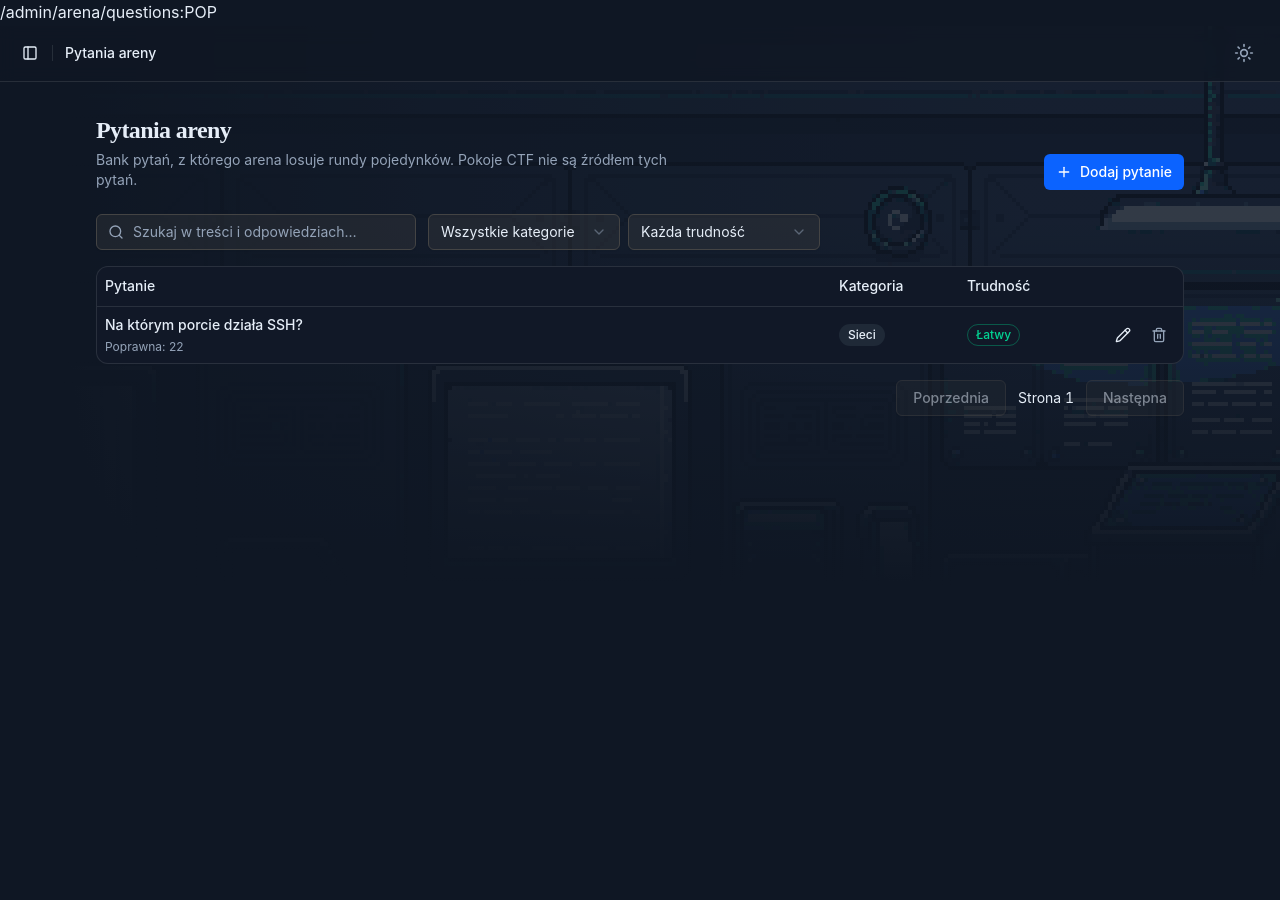
arena questions page › saves edits with the loaded version and keeps the form on a conflict
Click the button named "Edytuj pytanie: Na którym porcie" at (1123, 335), box [1107, 319, 1139, 351]
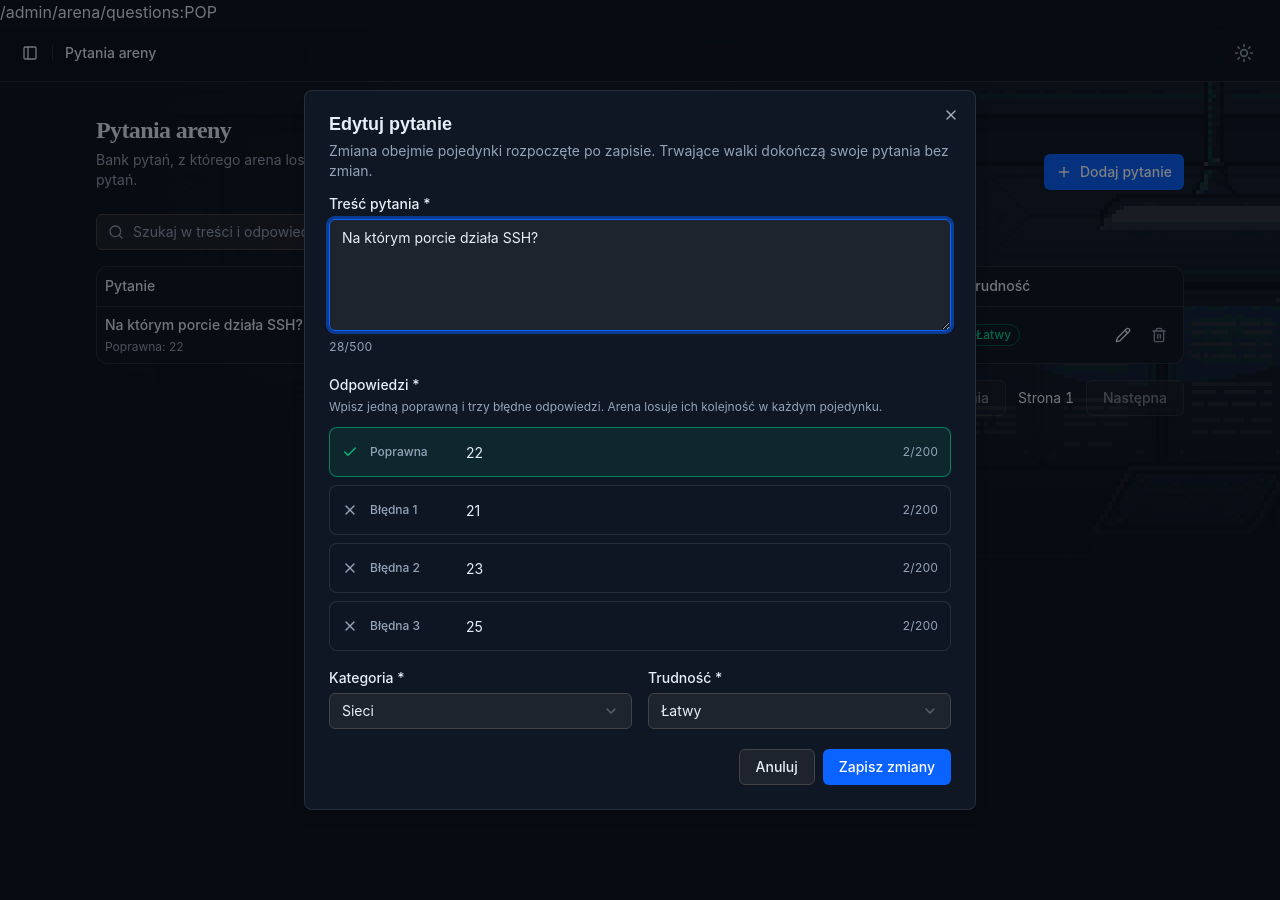
Check: the field named "Poprawna" holds "22", box [462, 436, 890, 468]
Check: the field named "Błędna 1" holds "21", box [462, 494, 890, 526]
Check: the field named "Błędna 3" holds "25", box [462, 610, 890, 642]
Type " (domyślnie)" into the text box labelled "Treść pytania *" at (640, 275), box [329, 219, 951, 331]
Click the button "Zapisz zmiany" at (887, 767), box [823, 749, 951, 785]
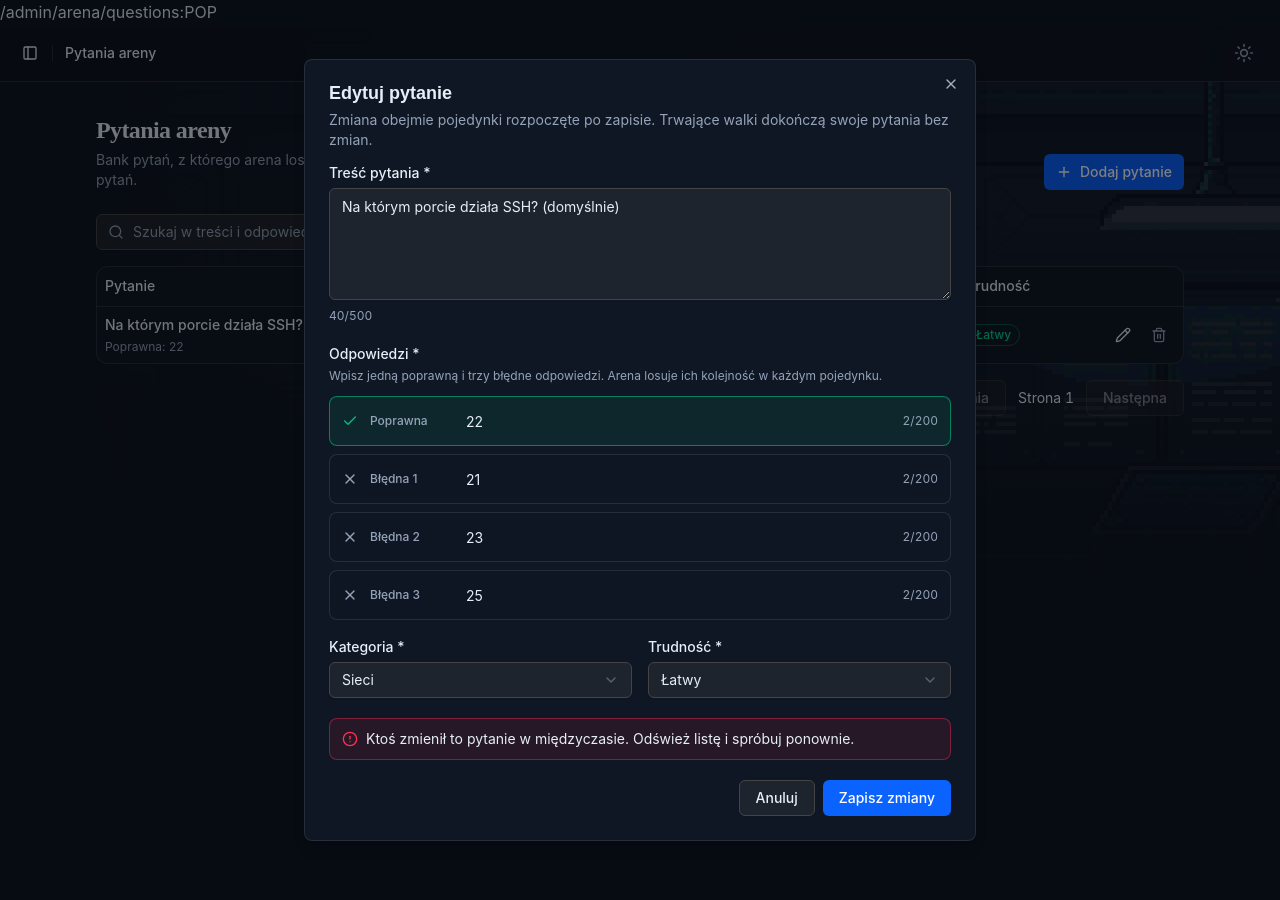
Check: the text box labelled "Treść pytania *" holds "Na którym porcie działa SSH? (domyślnie)", box [329, 188, 951, 300]
Check: the text "Ktoś zmienił to pytanie w międzyczasie" is shown, box [366, 730, 854, 747]
Click the button "Anuluj" at (777, 798), box [738, 780, 815, 816]
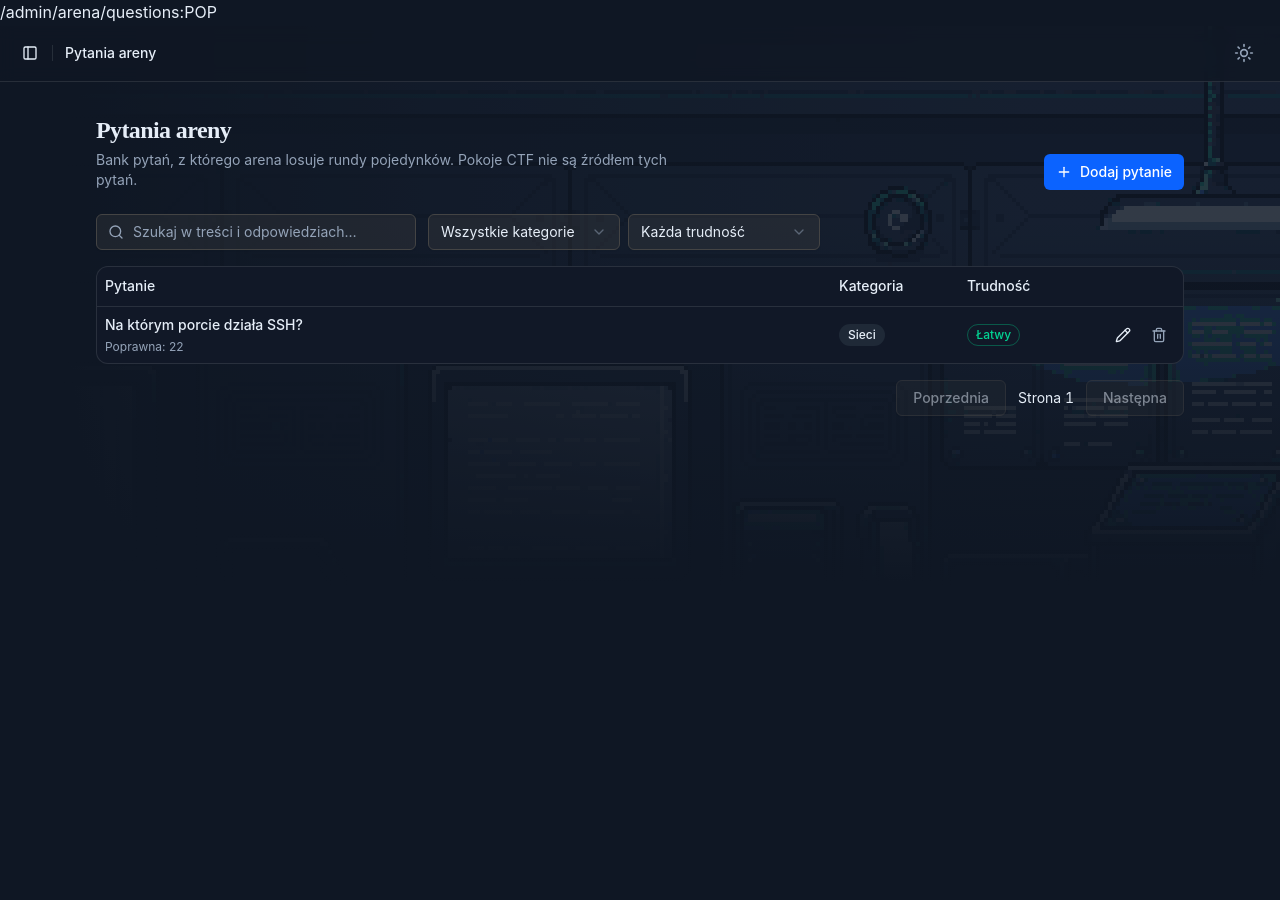
Click the button named "Edytuj pytanie: Na którym porcie" at (1123, 335), box [1107, 319, 1139, 351]
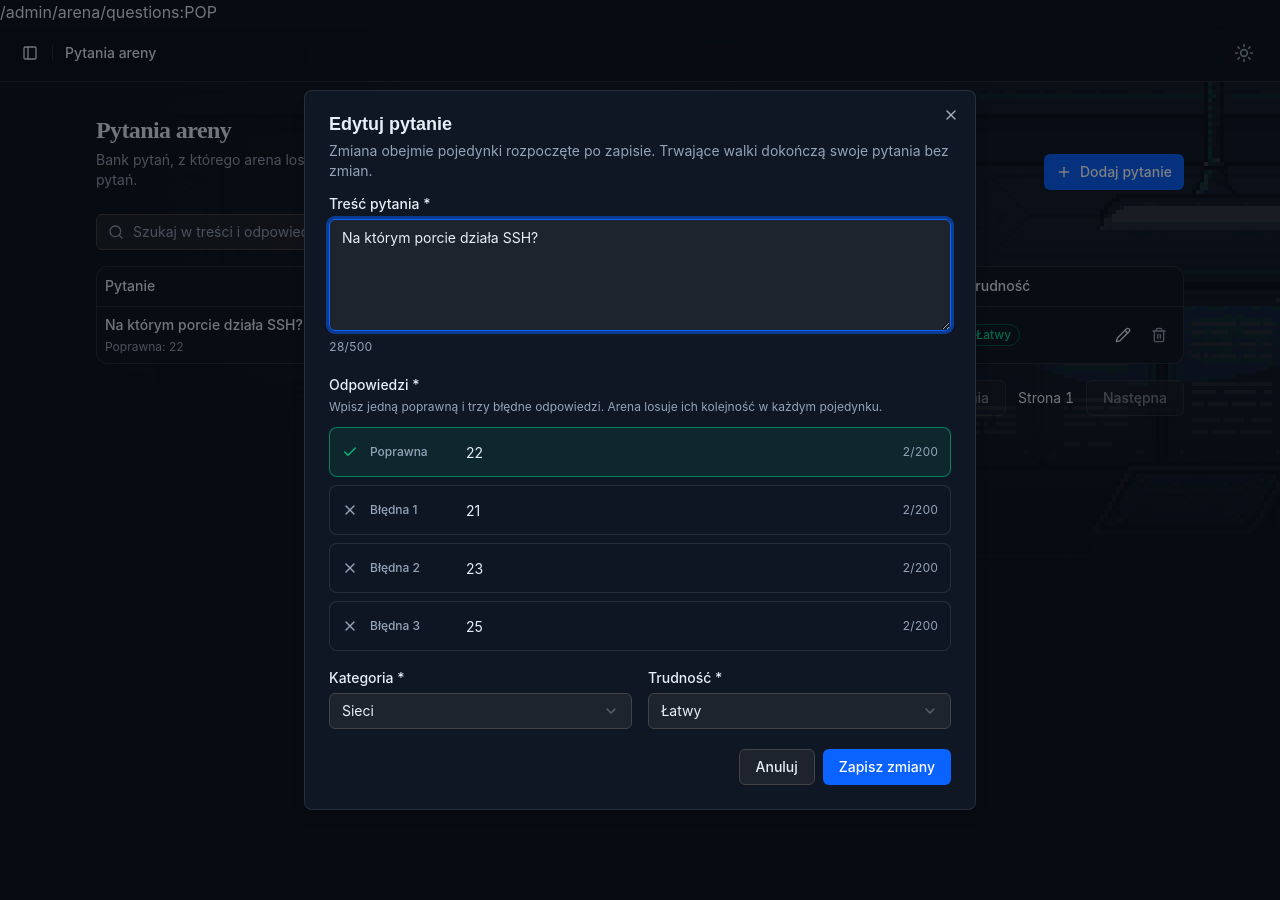
Check: the text box labelled "Treść pytania *" holds "Na którym porcie działa SSH?", box [329, 219, 951, 331]
Replace the text in the field named "Poprawna" with "2222" at (676, 452), box [462, 436, 890, 468]
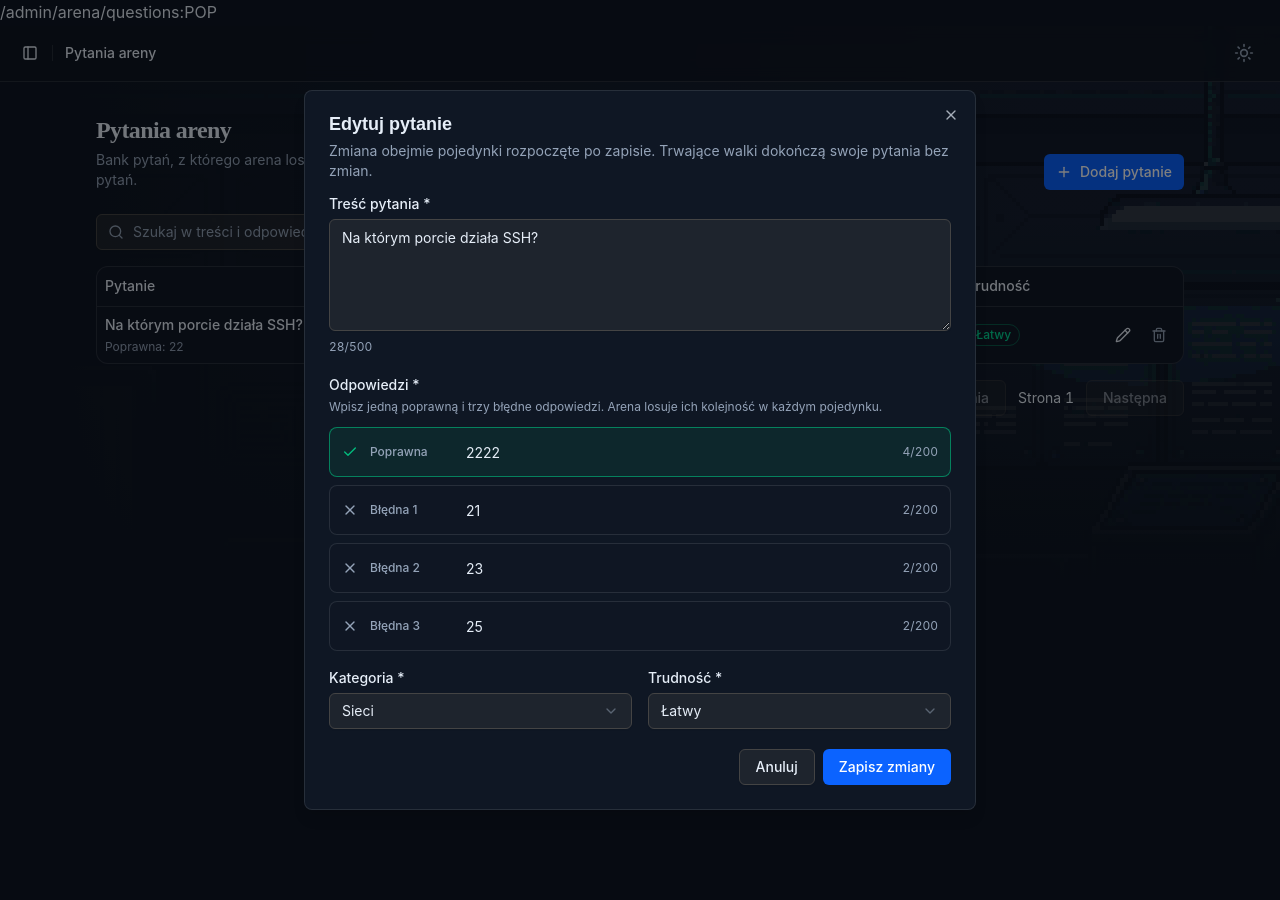
Click the button "Zapisz zmiany" at (887, 767), box [823, 749, 951, 785]
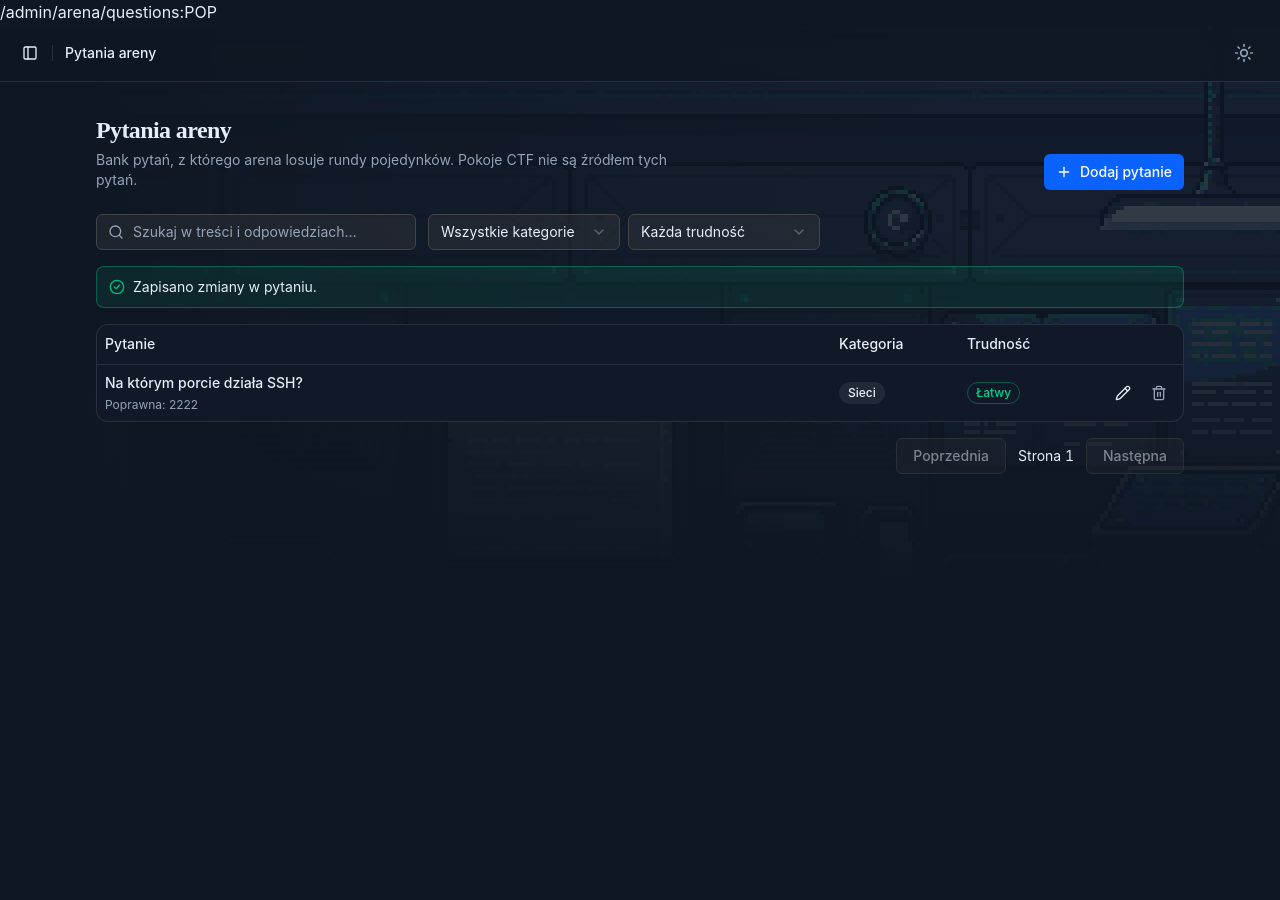
Check: the text "Zapisano zmiany w pytaniu." is shown, box [133, 277, 317, 297]
Check: the text "Poprawna: 2222" is shown, box [105, 397, 198, 412]
